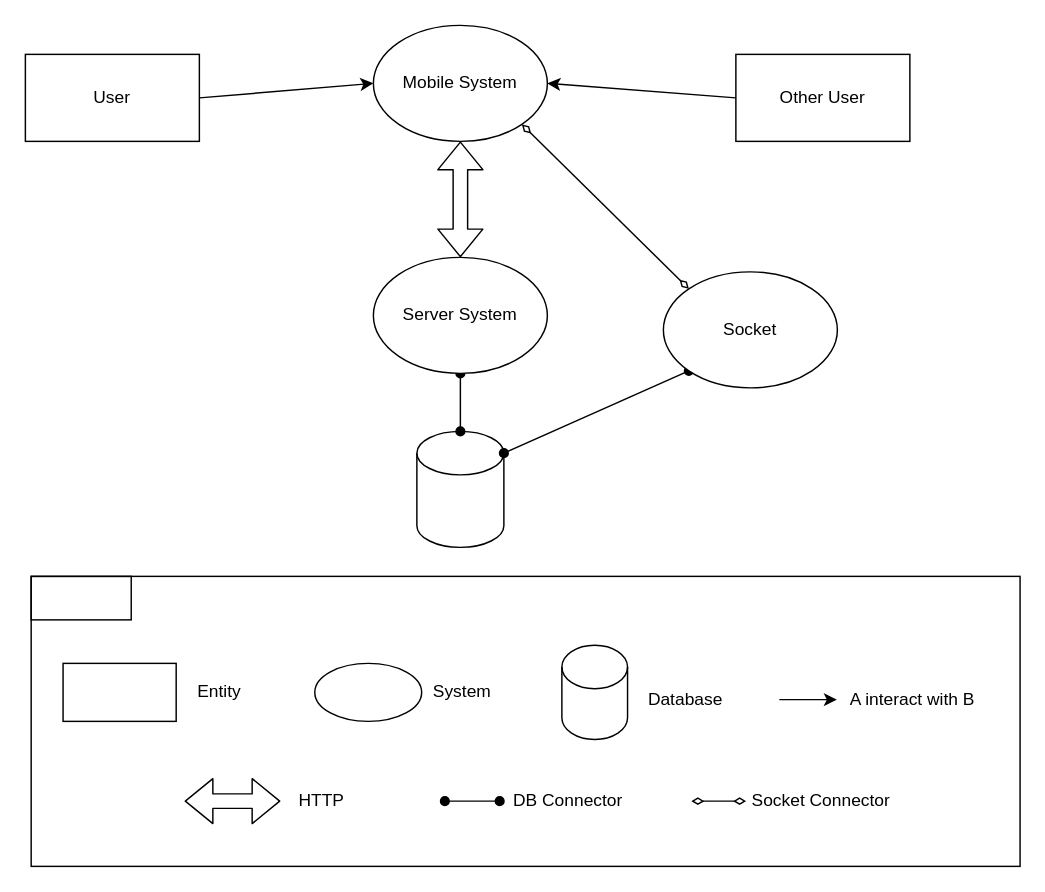
This 1045x892 diagram has some shape labels left out. The shapes that lost their labels are listed below. From the top down, each one's centre as x and y in pixels, then its label:
pixel 459 488: MySQL
pixel 80 597: Legend
